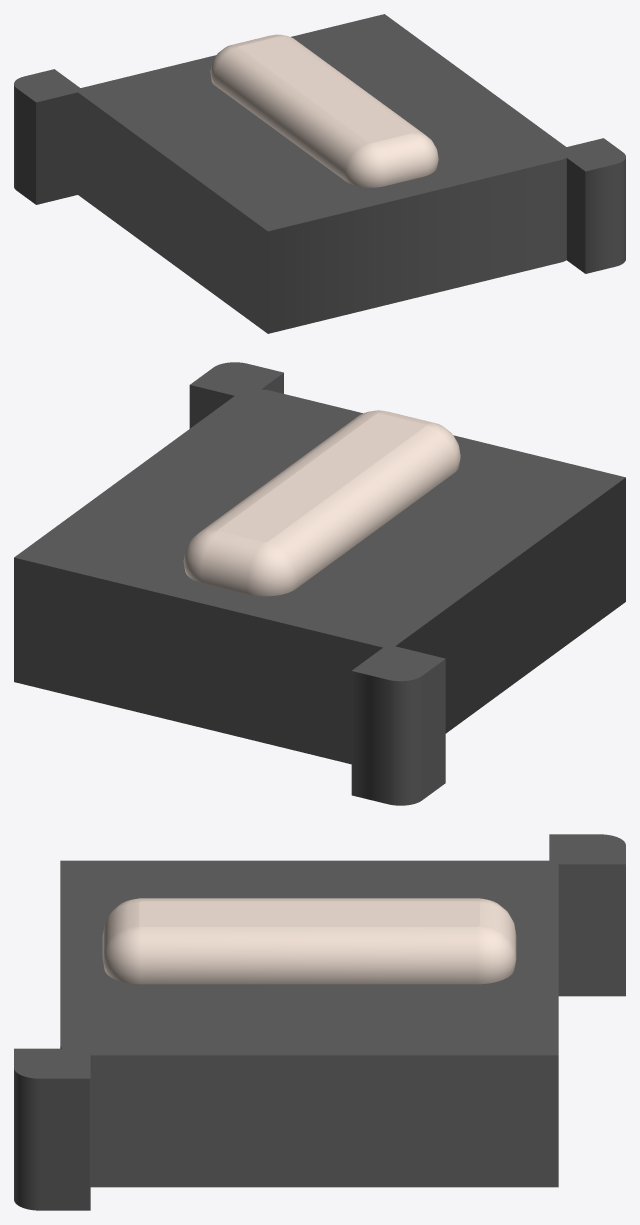
3 renders of one model, top to bottom at view 1: azimuth 30°, elevation 25°; view 2: azimuth 150°, elevation 25°; view 3: azimuth 270°, elevation 25°, orthographic. The views are drawn at different scales.
Parts seen in each view (by area): view 1: rect66; view 2: rect66; view 3: rect66.
Boxes of the visible parts, left/top/right/bottom form: rect66: left=14, top=14, right=625, bottom=333; rect66: left=14, top=362, right=625, bottom=805; rect66: left=14, top=834, right=625, bottom=1210.
Size of the model in its own units: 19.55 by 6.51 by 20.68.
